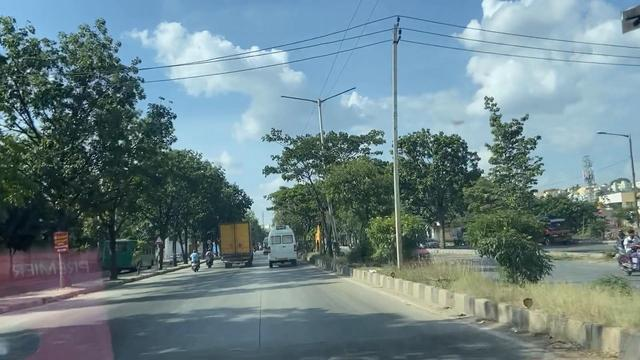HMV: (219, 222, 260, 262), (269, 228, 299, 272)
